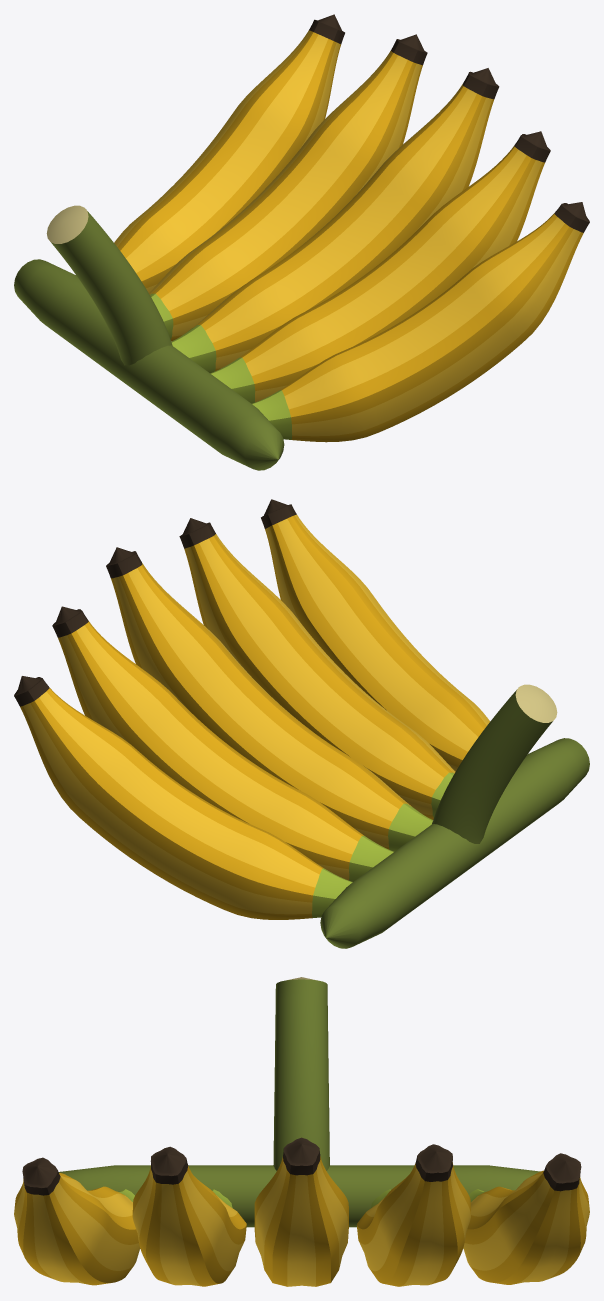
The model's file is banana_bunch.glb.
The picture shows the model from 3 angles, top to bottom: view 1: azimuth 30°, elevation 25°; view 2: azimuth 150°, elevation 25°; view 3: azimuth 270°, elevation 25°; orthographic projection. The views are drawn at different scales.
Parts seen in each view (by area): view 1: platano_5, platano_3, corona, platano_2, platano_4, platano_1; view 2: platano_1, platano_3, corona, platano_4, platano_2, platano_5; view 3: corona, platano_1, platano_5, platano_2, platano_4, platano_3.
Boxes of the visible parts, <box> form: platano_5: <box>252,202,589,442</box>; platano_3: <box>171,68,499,373</box>; corona: <box>14,205,284,470</box>; platano_2: <box>149,34,427,341</box>; platano_4: <box>210,131,550,403</box>; platano_1: <box>114,14,344,292</box>; platano_1: <box>14,676,352,919</box>; platano_3: <box>106,547,432,851</box>; corona: <box>320,684,589,948</box>; platano_4: <box>179,518,455,819</box>; platano_2: <box>52,606,393,881</box>; platano_5: <box>261,499,489,771</box>; corona: <box>58,977,540,1227</box>; platano_1: <box>463,1153,589,1284</box>; platano_5: <box>14,1157,140,1285</box>; platano_2: <box>356,1144,470,1286</box>; platano_4: <box>132,1146,246,1286</box>; platano_3: <box>254,1137,348,1286</box>.
Bounding box in the file's own units: 0.2182 × 0.113 × 0.2307.
Materials: 1 (1 with a texture image).
